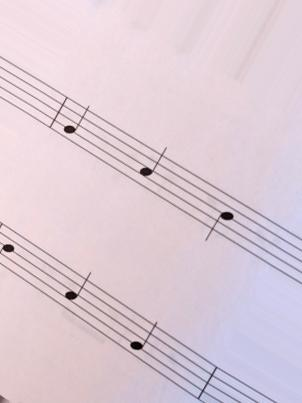note: (126, 301, 159, 382), (202, 175, 236, 250), (62, 82, 92, 159), (64, 258, 94, 334), (139, 134, 168, 207)
